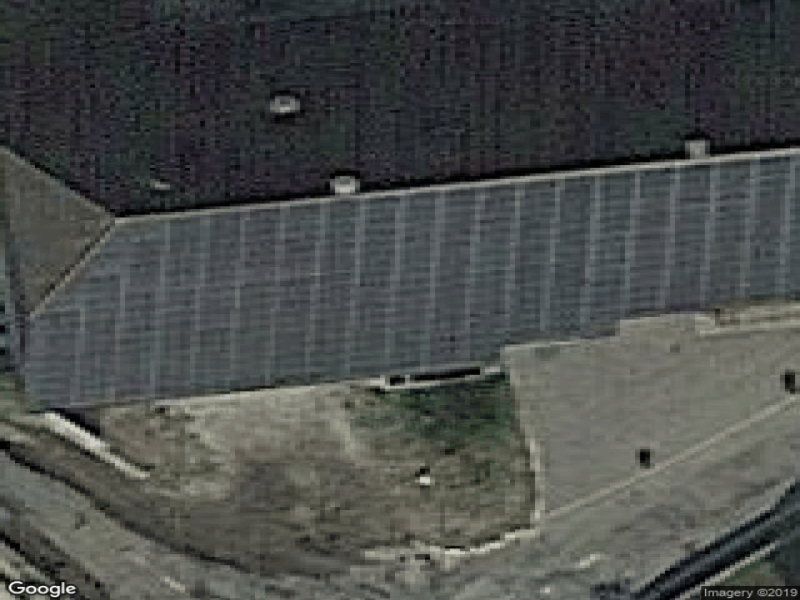pv: (30, 153, 800, 408)
